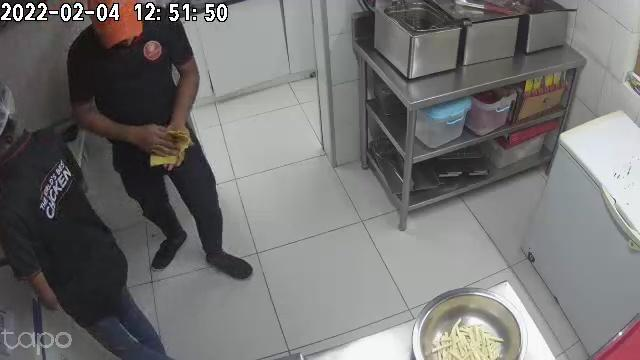no_gloves: (127, 126, 176, 157)
